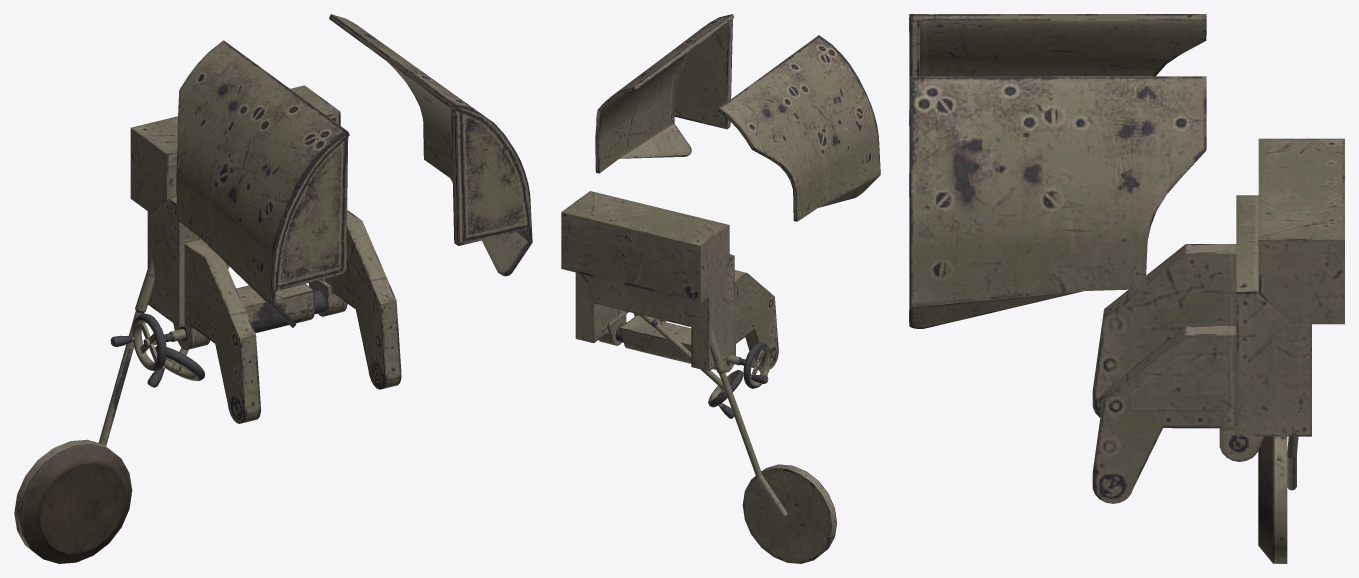
The model's file is Turret_01.glb.
3 renders of one model, left to right at view 1: azimuth 30°, elevation 25°; view 2: azimuth 150°, elevation 25°; view 3: azimuth 270°, elevation 25°, orthographic. The views are drawn at different scales.
Parts seen in each view (by area): view 1: set_0_group_0; view 2: set_0_group_0; view 3: set_0_group_0.
Boxes of the visible parts, left/top/right/bottom form: set_0_group_0: left=14, top=14, right=532, bottom=563; set_0_group_0: left=561, top=14, right=880, bottom=563; set_0_group_0: left=909, top=14, right=1344, bottom=563.
Bounding box in the file's own units: 1.14 × 1.55 × 0.9996.
Materials: 1 (1 with a texture image).
